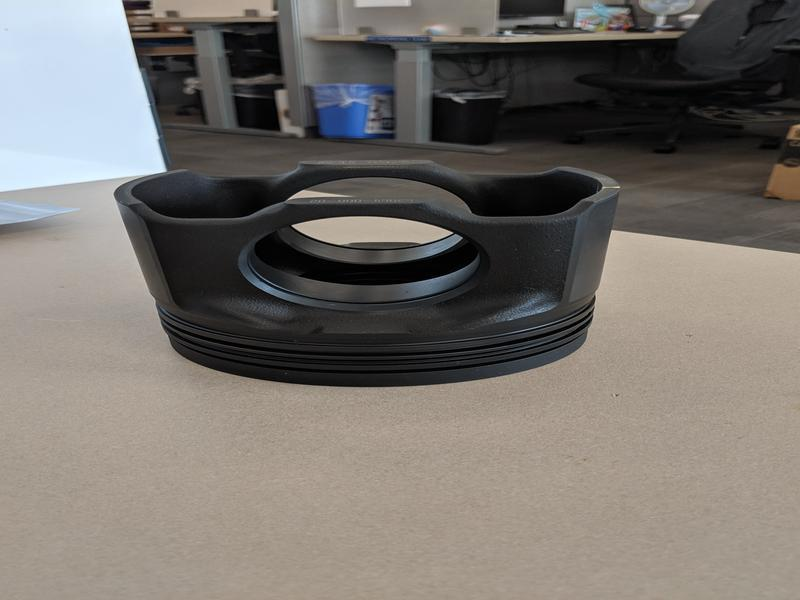piston: (110, 156, 624, 391)
